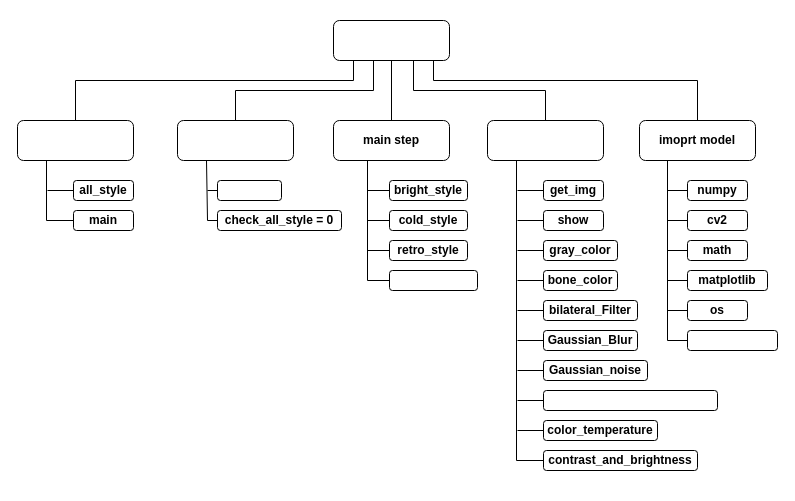
Image size: 795x501. Some labels were removed from this diagram. The shapes that lost their labels are listed below. From the top down, each one's box as (x1, y1, x2, y2) in pixels, then its label:
(332, 20, 450, 60): filter.exe
(16, 120, 134, 160): main UI
(176, 120, 294, 160): debug here
(486, 120, 604, 160): all funnction
(216, 180, 282, 200): debug = 0
(388, 270, 478, 290): solemn_style
(686, 330, 778, 350): google_drive
(542, 390, 718, 410): RGB_histogram_eqqlization
